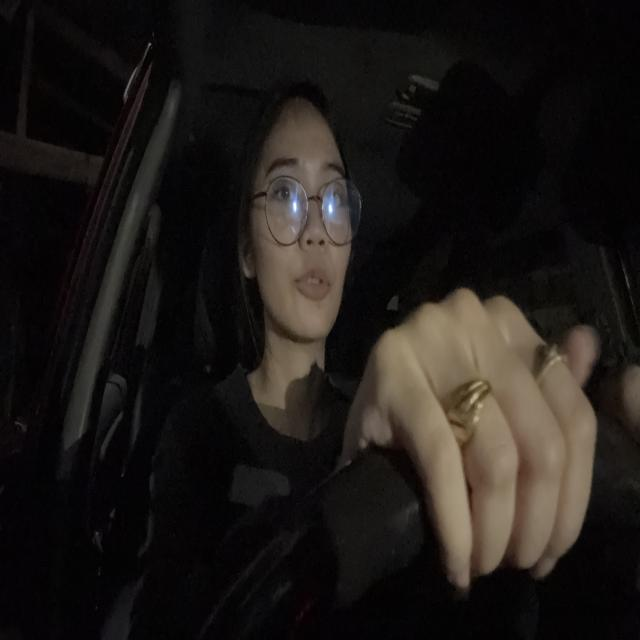open: (322, 154, 353, 223), (262, 153, 302, 205)
